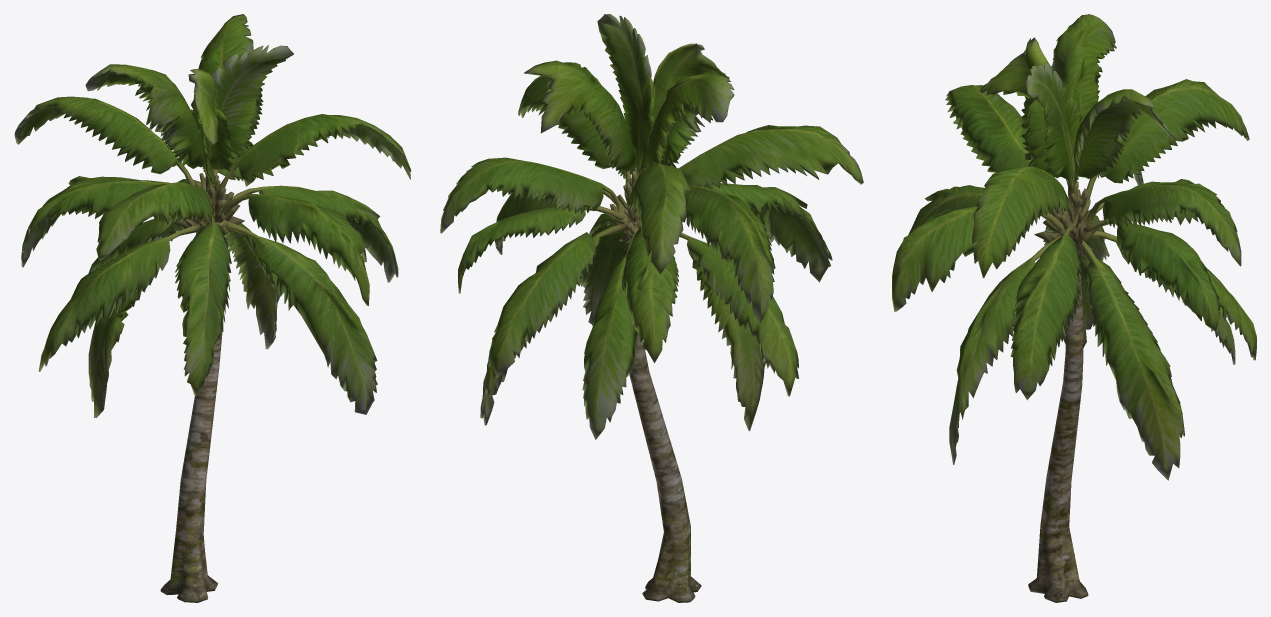
File: VEG_PalmeraTropical_02_LOD0.fbx
The picture shows the model from 3 angles, left to right: view 1: azimuth 30°, elevation 25°; view 2: azimuth 150°, elevation 25°; view 3: azimuth 270°, elevation 25°; orthographic projection. The views are drawn at different scales.
Parts seen in each view (by area): view 1: VEG_PalmeraTropical_02_Mesh000; view 2: VEG_PalmeraTropical_02_Mesh000; view 3: VEG_PalmeraTropical_02_Mesh000.
Part boxes in pixels (x1,y1,x2,y2): VEG_PalmeraTropical_02_Mesh000: (14,14,411,602); VEG_PalmeraTropical_02_Mesh000: (440,14,863,602); VEG_PalmeraTropical_02_Mesh000: (892,14,1256,602).
Bounding box in the file's own units: 6.36 × 10 × 5.97.
